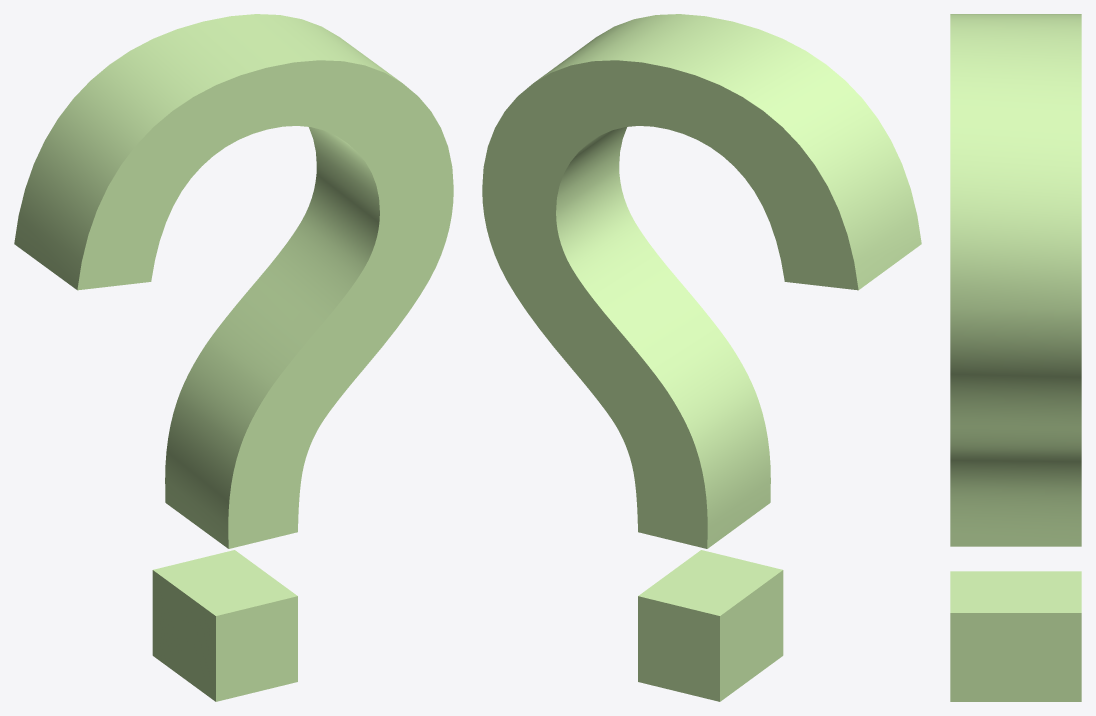
The model's file is Quest.fbx.
3 renders of one model, left to right at view 1: azimuth 30°, elevation 25°; view 2: azimuth 150°, elevation 25°; view 3: azimuth 270°, elevation 25°, orthographic. The views are drawn at different scales.
Parts seen in each view (by area): view 1: TextPlus001; view 2: TextPlus001; view 3: TextPlus001.
Boxes of the visible parts, left/top/right/bottom form: TextPlus001: left=14, top=14, right=453, bottom=701; TextPlus001: left=482, top=14, right=921, bottom=701; TextPlus001: left=950, top=14, right=1081, bottom=701.
Size of the model in its own units: 10.32 by 16.3 by 3.
